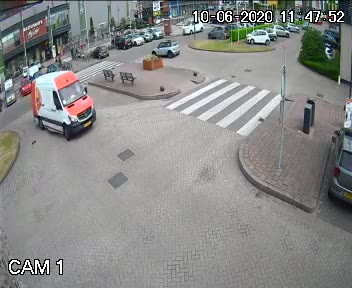car: (20, 66, 96, 140), (152, 36, 179, 60), (179, 18, 202, 34)
